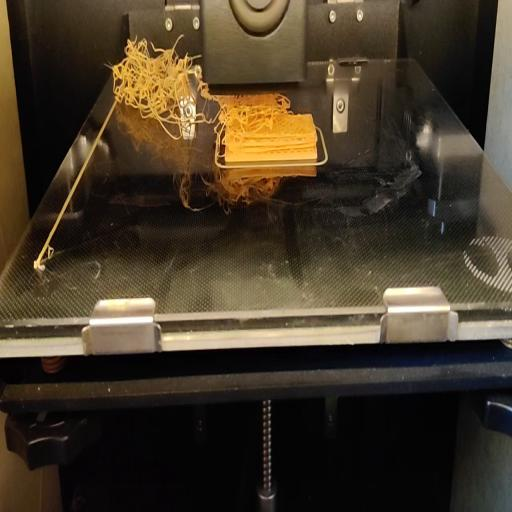spaghetti: (107, 32, 199, 148), (203, 87, 289, 140)
